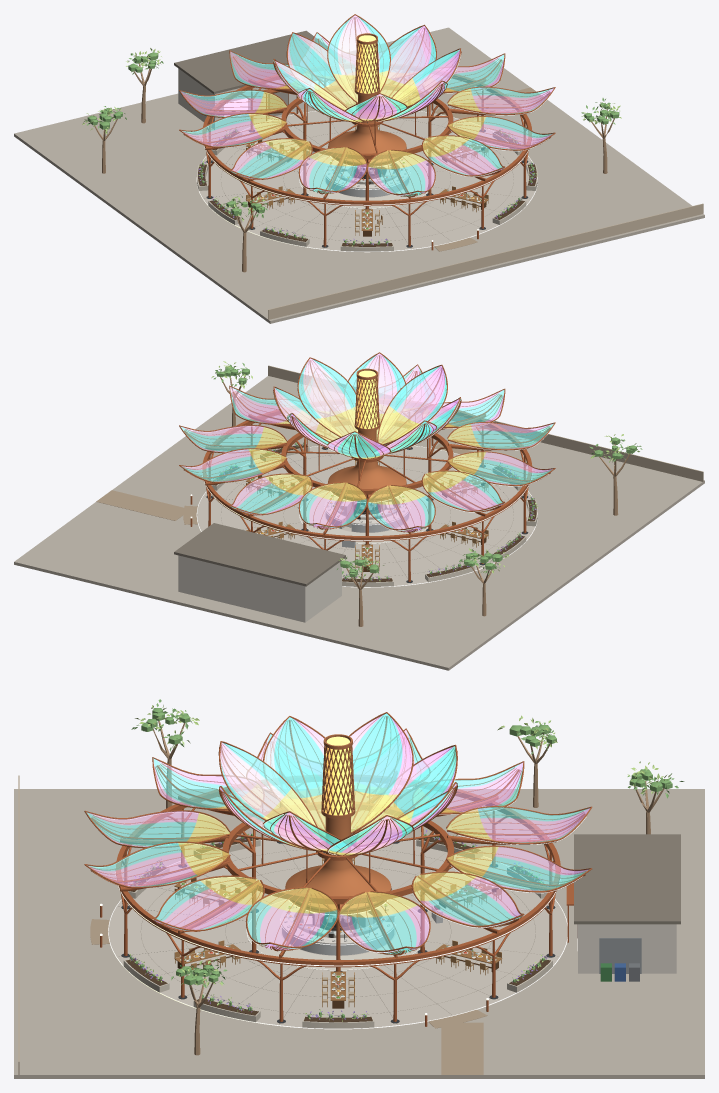
The model's file is q09b-petal-canteen.glb.
The picture shows the model from 3 angles, top to bottom: view 1: azimuth 30°, elevation 25°; view 2: azimuth 150°, elevation 25°; view 3: azimuth 270°, elevation 25°; orthographic projection. The views are drawn at different scales.
Parts seen in each view (by area): view 1: FLOOR_PLAZA, PETALS_OUTER, PETALS_INNER, COLUMNS_RING_RIBS, BACK_OF_HOUSE, KITCHEN_COUNTER, KITCHEN_HOOD, TABLE_5, TABLE_3, TABLE_1; view 2: FLOOR_PLAZA, PETALS_OUTER, PETALS_INNER, BACK_OF_HOUSE, COLUMNS_RING_RIBS, KITCHEN_COUNTER, KITCHEN_HOOD, TABLE_1; view 3: FLOOR_PLAZA, PETALS_OUTER, PETALS_INNER, COLUMNS_RING_RIBS, BACK_OF_HOUSE, KITCHEN_COUNTER, KITCHEN_HOOD, TABLE_1, TABLE_5, TABLE_3, TABLE_2, TABLE_6.
Boxes of the visible parts, bbox=[...] form: FLOOR_PLAZA: bbox=[14, 27, 704, 323]; PETALS_OUTER: bbox=[179, 30, 555, 197]; PETALS_INNER: bbox=[273, 14, 461, 122]; COLUMNS_RING_RIBS: bbox=[202, 73, 532, 247]; BACK_OF_HOUSE: bbox=[174, 30, 341, 130]; KITCHEN_COUNTER: bbox=[299, 149, 435, 208]; KITCHEN_HOOD: bbox=[328, 33, 406, 167]; TABLE_5: bbox=[355, 209, 382, 236]; TABLE_3: bbox=[246, 139, 294, 161]; TABLE_1: bbox=[440, 139, 488, 162]; FLOOR_PLAZA: bbox=[14, 361, 704, 670]; PETALS_OUTER: bbox=[179, 364, 555, 532]; PETALS_INNER: bbox=[273, 352, 461, 459]; BACK_OF_HOUSE: bbox=[174, 523, 345, 622]; COLUMNS_RING_RIBS: bbox=[202, 404, 532, 582]; KITCHEN_COUNTER: bbox=[299, 491, 435, 547]; KITCHEN_HOOD: bbox=[328, 368, 406, 502]; TABLE_1: bbox=[246, 475, 294, 497]; FLOOR_PLAZA: bbox=[14, 699, 704, 1078]; PETALS_OUTER: bbox=[84, 728, 592, 955]; PETALS_INNER: bbox=[218, 712, 458, 855]; COLUMNS_RING_RIBS: bbox=[115, 782, 560, 1023]; BACK_OF_HOUSE: bbox=[566, 834, 680, 981]; KITCHEN_COUNTER: bbox=[246, 899, 442, 970]; KITCHEN_HOOD: bbox=[285, 734, 391, 915]; TABLE_1: bbox=[322, 971, 354, 1008]; TABLE_5: bbox=[174, 877, 240, 909]; TABLE_3: bbox=[436, 877, 501, 911]; TABLE_2: bbox=[436, 940, 502, 975]; TABLE_6: bbox=[174, 940, 240, 969].
Size of the model in its own units: 48.06 by 15.3 by 49.
